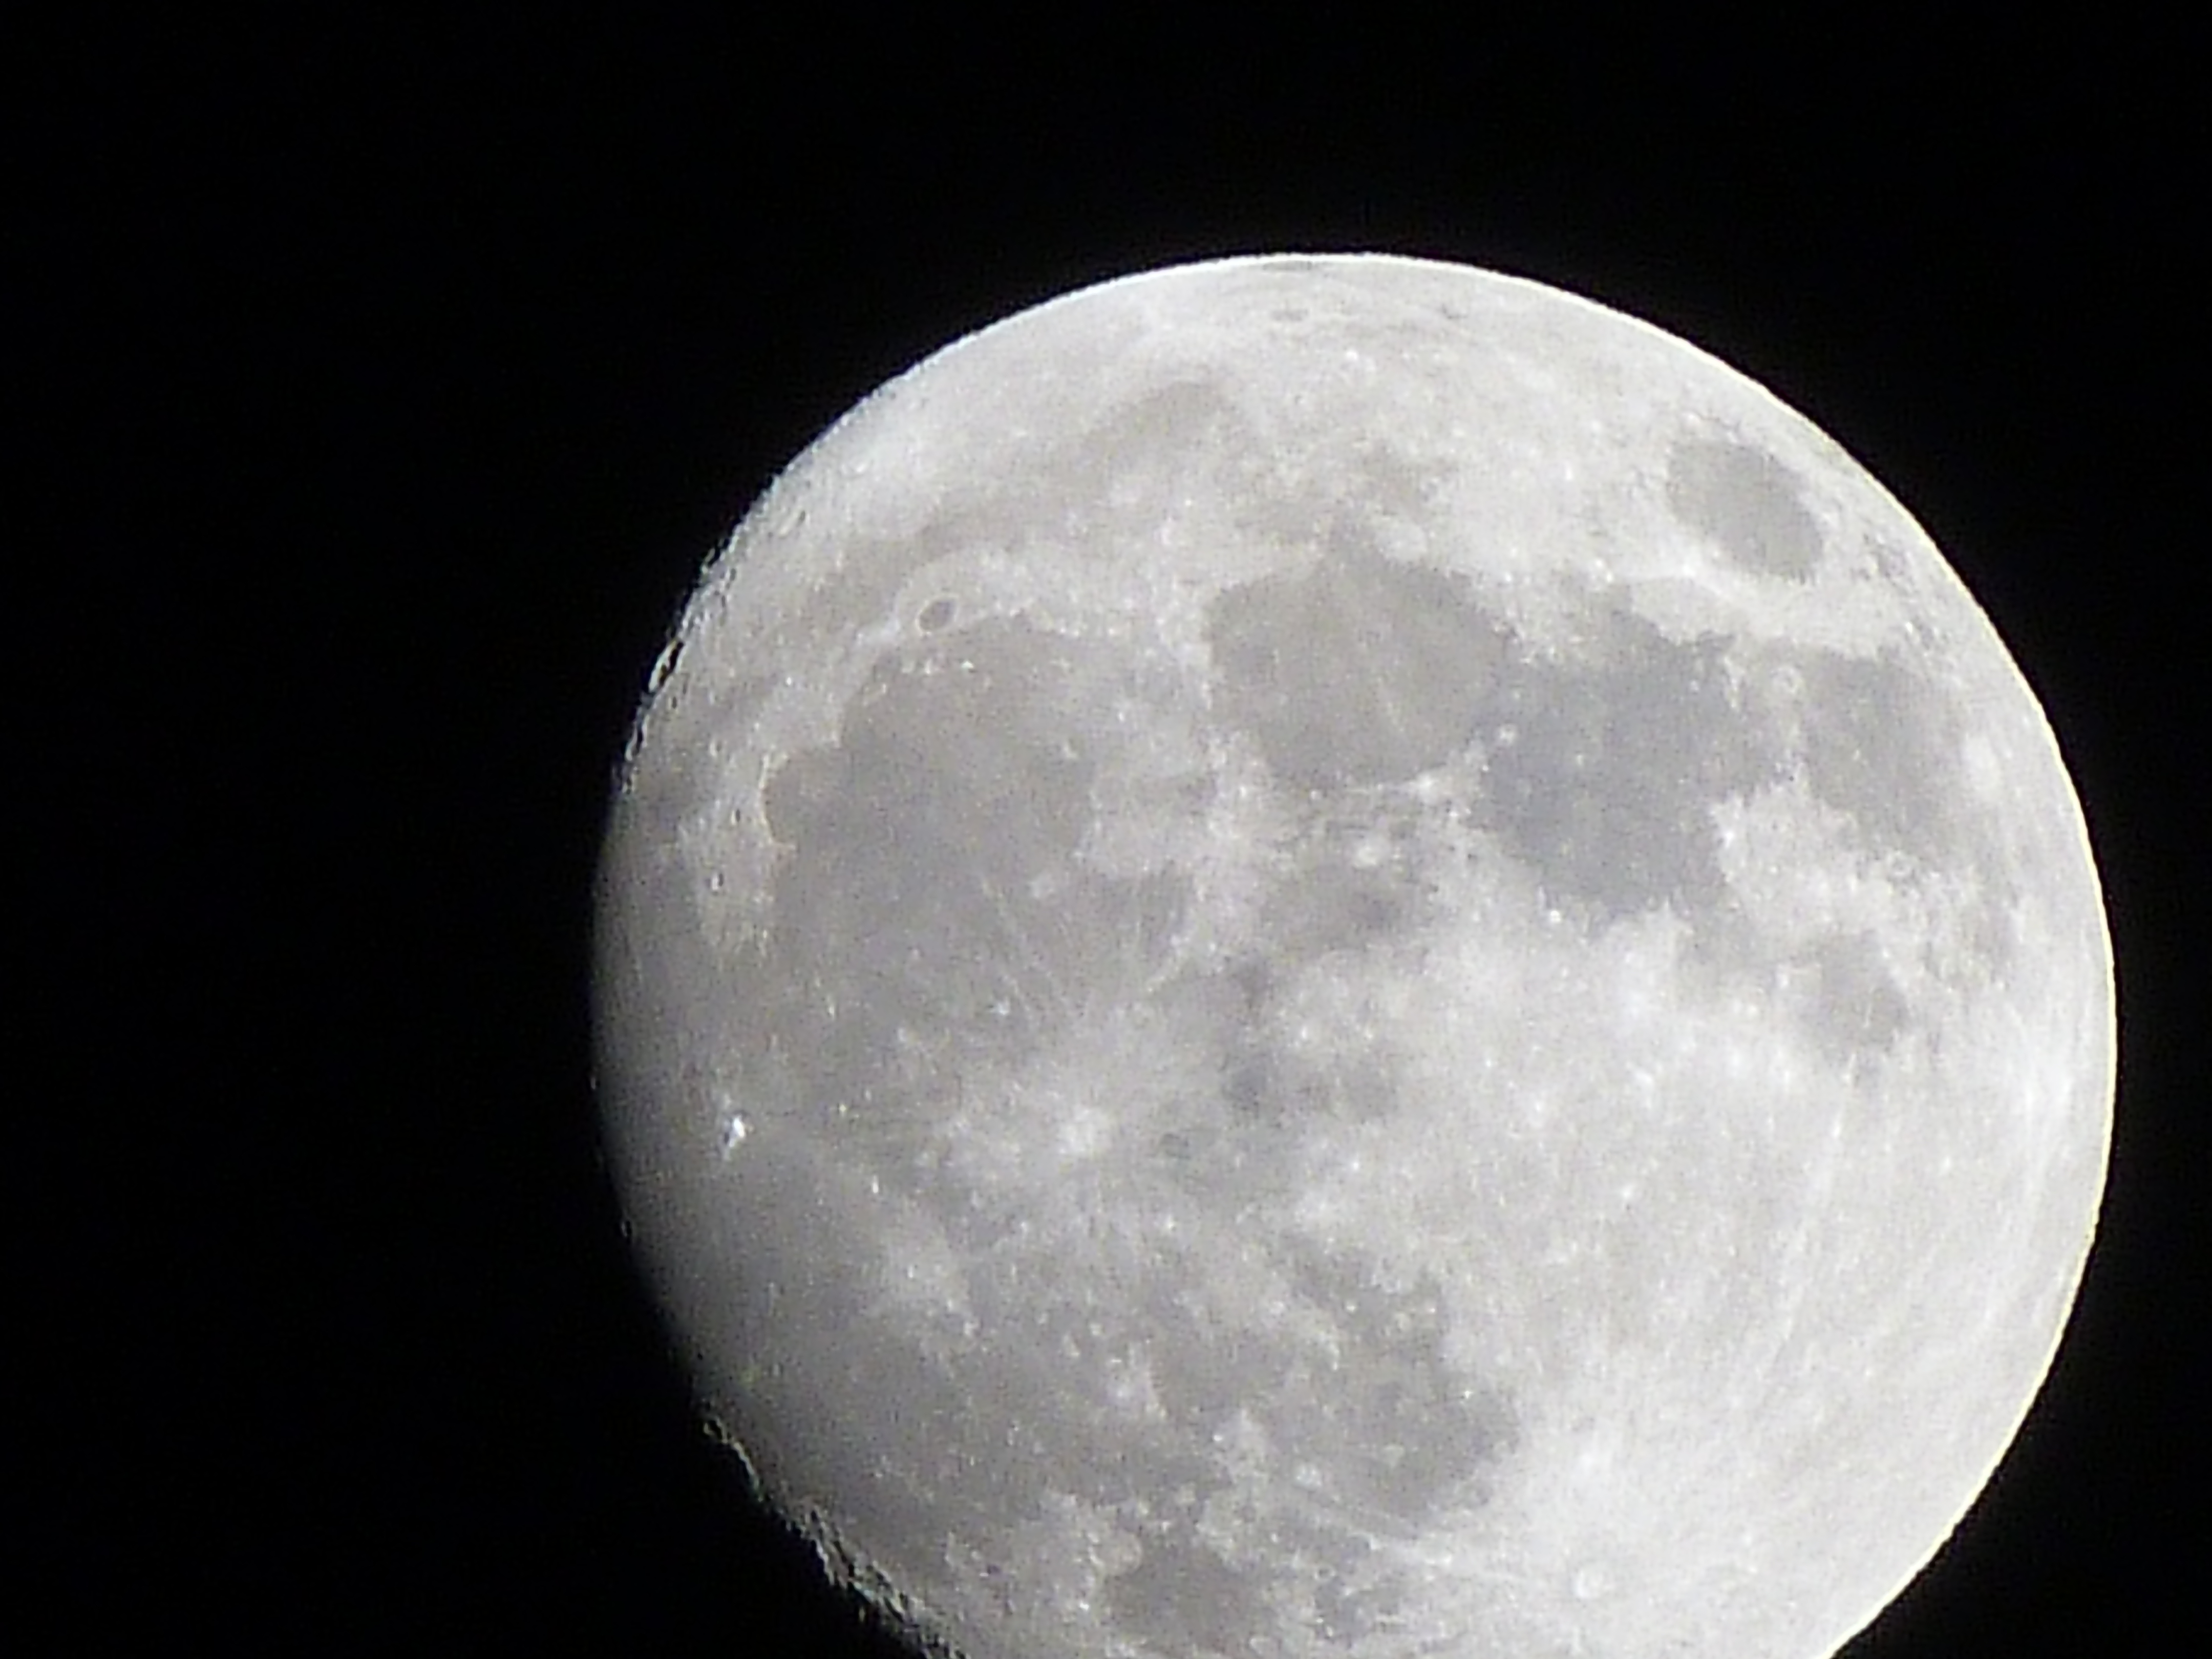crater: (1372, 1380, 1771, 1650), (998, 1066, 1163, 1187), (693, 1079, 779, 1194), (1500, 854, 1588, 950), (888, 575, 977, 648), (1759, 640, 1820, 709), (1867, 842, 1932, 901), (1484, 701, 1540, 758), (695, 857, 747, 918), (714, 789, 770, 840)
